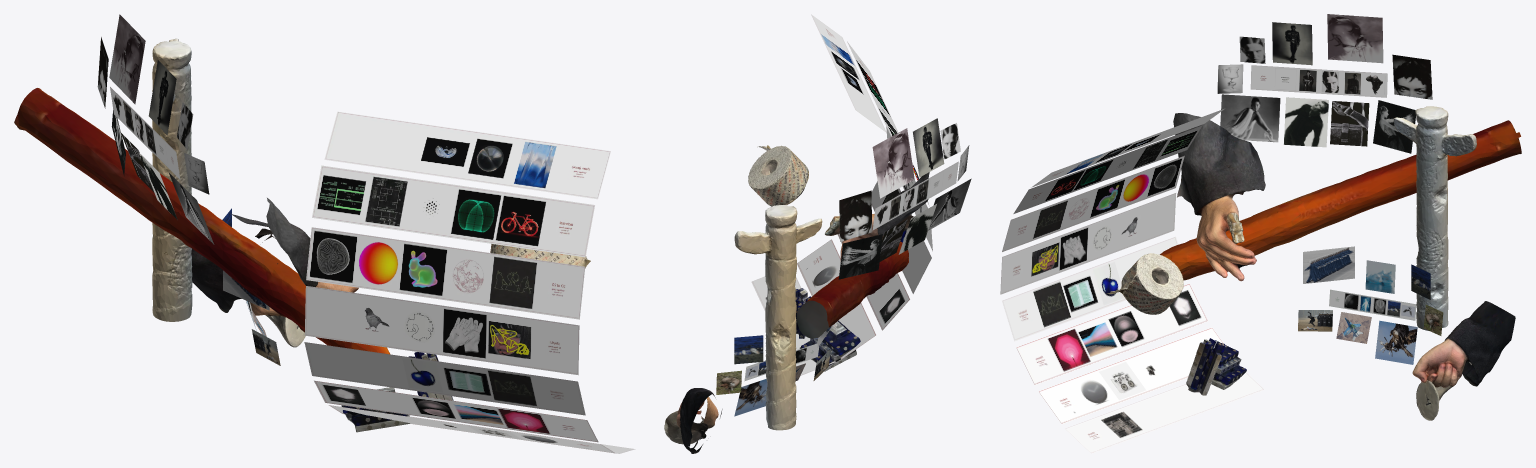
File: eigo_full_V1.glb
3 renders of one model, left to right at view 1: azimuth 30°, elevation 25°; view 2: azimuth 150°, elevation 25°; view 3: azimuth 270°, elevation 25°, orthographic. The views are drawn at different scales.
Parts seen in each view (by area): view 1: Plane.001, Plane.003, Mesh_0.007, Plane.008, Plane.005, Plane.004, Mesh_0.004, Plane.009, Mesh_0.002, Mesh_0.009, Plane.019, Plane.007 (+7 smaller); view 2: Mesh_0.004, Mesh_0.007, Mesh_0.006, Plane.007, Plane.008, Mesh_0.002, Plane.019, Plane.002, Mesh_0.008, Plane.023, Plane.018, Plane.009 (+13 smaller); view 3: Mesh_0.007, Mesh_0.009, Mesh_0.004, Plane.009, Plane.005, Plane.007, Plane.004, Mesh_0.002, Plane.010, Plane.003, Plane.001, Plane.002 (+19 smaller).
Part boxes in pixels (<box>): Plane.001: <box>312,165,594,257</box>; Plane.003: <box>306,227,585,319</box>; Mesh_0.007: <box>14,88,389,354</box>; Plane.008: <box>324,111,610,199</box>; Plane.005: <box>304,286,579,375</box>; Plane.004: <box>304,342,585,415</box>; Mesh_0.004: <box>152,38,192,321</box>; Plane.009: <box>314,380,598,442</box>; Mesh_0.002: <box>191,248,305,347</box>; Mesh_0.009: <box>230,198,358,292</box>; Plane.019: <box>109,14,145,104</box>; Plane.007: <box>328,405,615,453</box>; Mesh_0.004: <box>734,205,822,430</box>; Mesh_0.007: <box>796,241,908,338</box>; Mesh_0.006: <box>748,145,808,206</box>; Plane.007: <box>797,239,875,359</box>; Plane.008: <box>811,14,886,132</box>; Mesh_0.002: <box>664,388,722,453</box>; Plane.019: <box>872,128,914,198</box>; Plane.002: <box>872,161,958,230</box>; Mesh_0.008: <box>795,288,860,371</box>; Plane.023: <box>838,234,882,279</box>; Plane.018: <box>839,190,872,241</box>; Plane.009: <box>838,234,909,330</box>; Mesh_0.007: <box>1160,120,1521,280</box>; Mesh_0.009: <box>1173,113,1265,281</box>; Mesh_0.004: <box>1393,106,1476,330</box>; Plane.009: <box>1016,283,1208,385</box>; Plane.005: <box>1000,193,1176,294</box>; Plane.007: <box>1038,327,1223,424</box>; Plane.004: <box>1002,236,1178,341</box>; Mesh_0.002: <box>1412,301,1515,420</box>; Plane.010: <box>1065,372,1264,453</box>; Plane.003: <box>1002,155,1184,251</box>; Plane.001: <box>1013,125,1202,213</box>; Plane.002: <box>1250,65,1387,97</box>.
Size of the model in its own units: 7.05 by 7.54 by 11.09.
32 materials, 32 textured.
